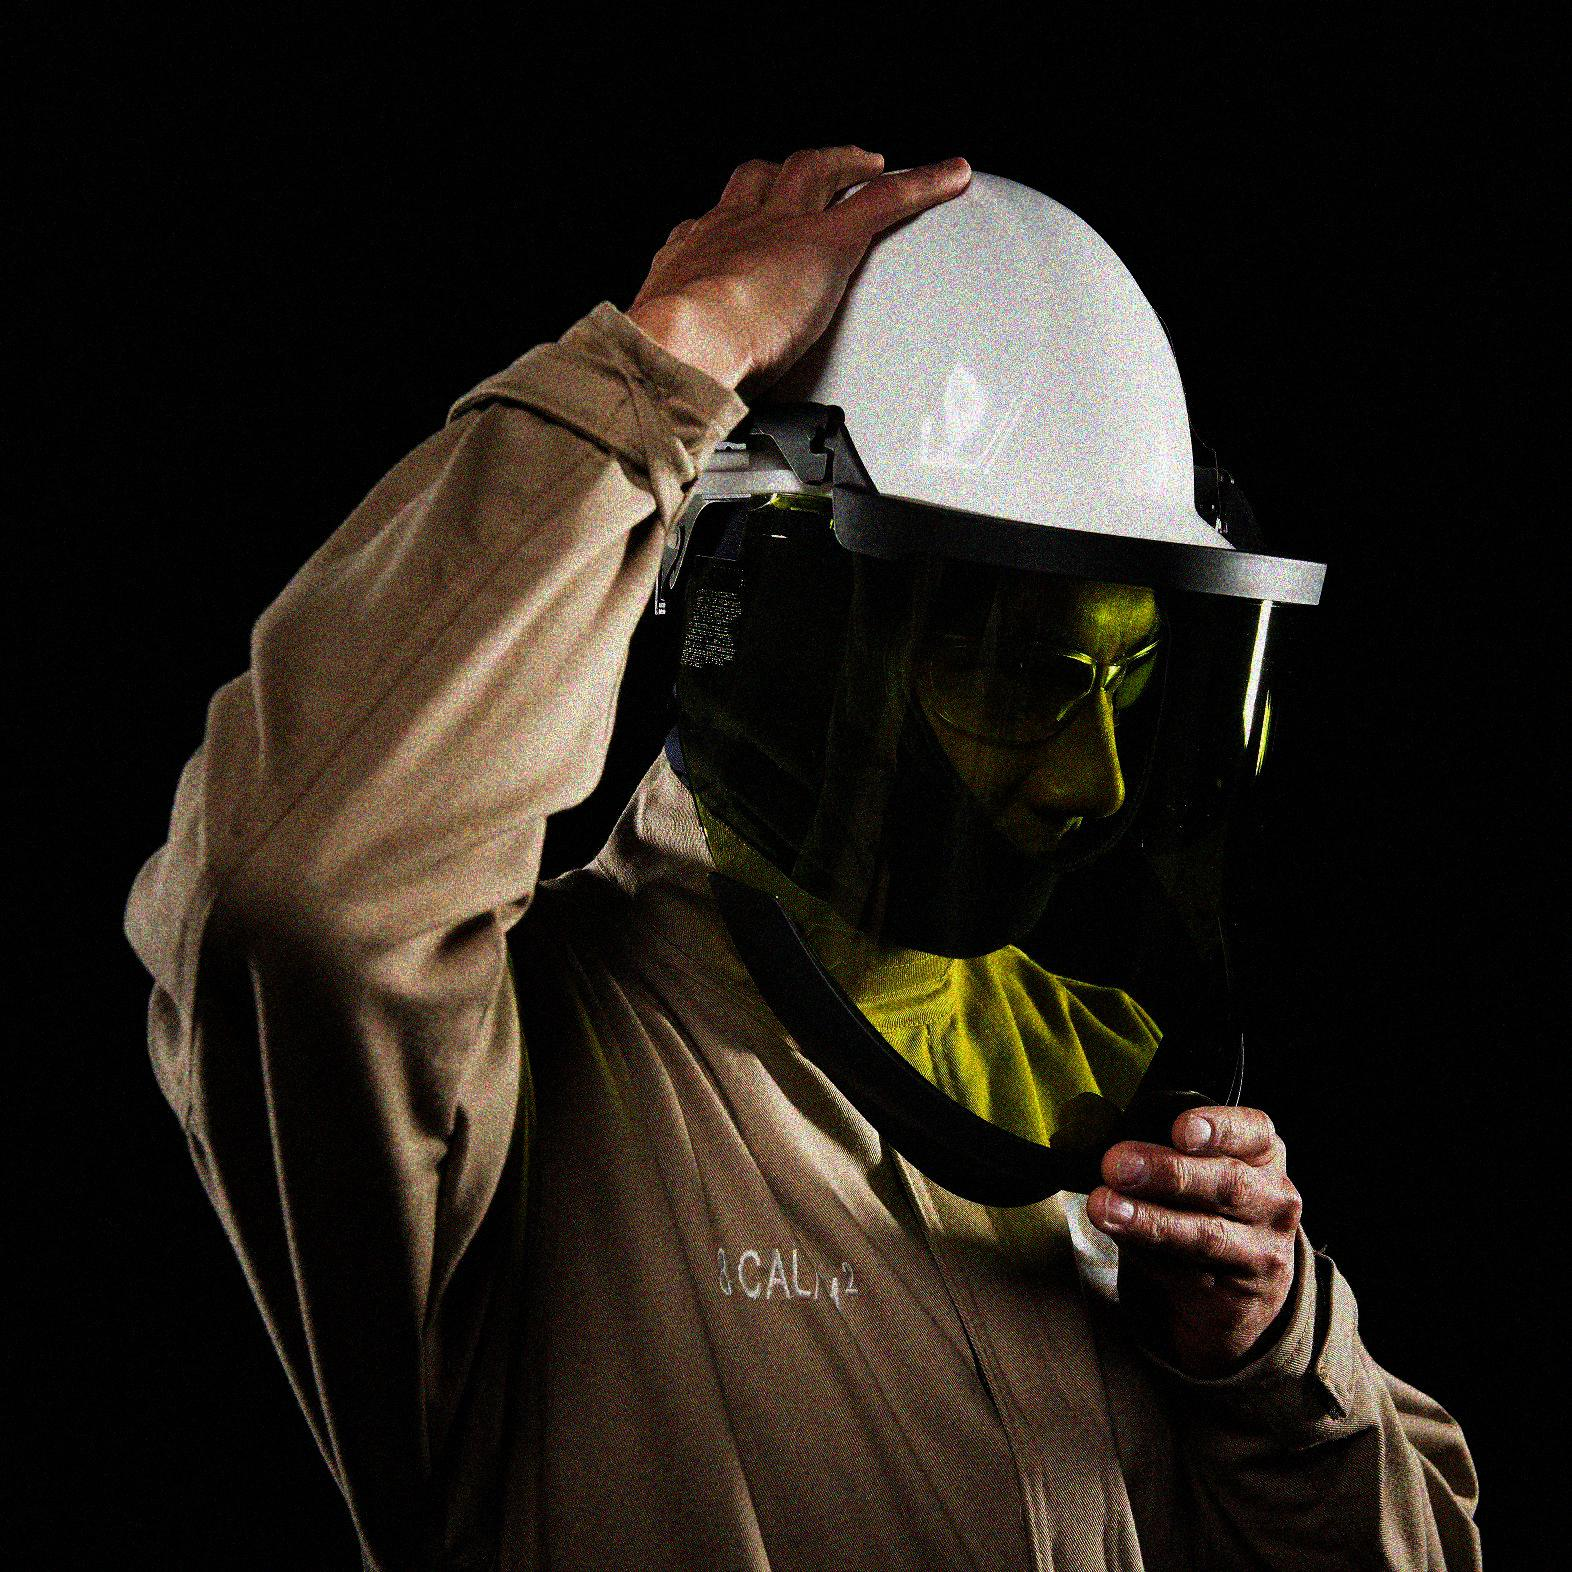helmet: (664, 160, 1242, 941)
